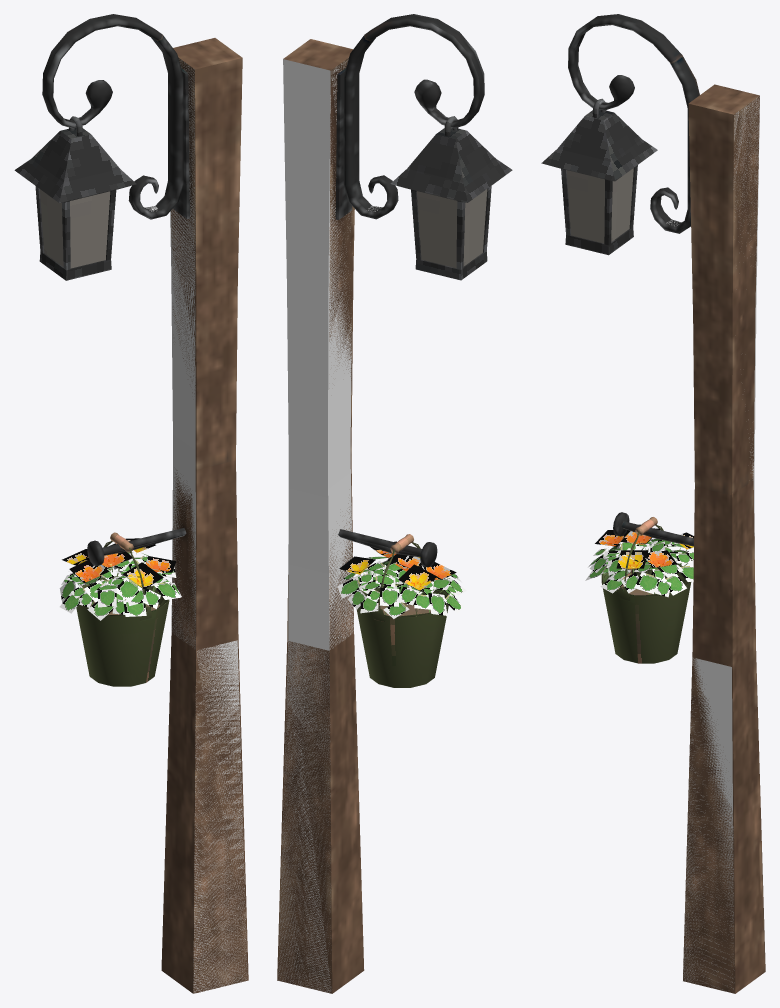
File: objects_un_t01lamp01.gltf
3 views of the same model, side by side, from view 1: azimuth 30°, elevation 25°; view 2: azimuth 150°, elevation 25°; view 3: azimuth 330°, elevation 25° (orthographic). The views are drawn at different scales.
Visible parts, largest first — view 1: nomerge_glass_shape:objects_un_t01lamp01_main1, um_objects_un_t01lamp01_model_lod0Shape:objects_un_t01lamp01 (×3), nomerge_glass_shape:objects_un_t01lamp01_lamp1, um_objects_un_t01lamp01_model_lod1Shape:objects_un_t01lamp01; view 2: um_objects_un_t01lamp01_model_lod0Shape:objects_un_t01lamp01 (×4), nomerge_glass_shape:objects_un_t01lamp01_main1, nomerge_glass_shape:objects_un_t01lamp01_lamp1, um_objects_un_t01lamp01_model_lod1Shape:objects_un_t01lamp01; view 3: nomerge_glass_shape:objects_un_t01lamp01_main1, um_objects_un_t01lamp01_model_lod0Shape:objects_un_t01lamp01 (×3), nomerge_glass_shape:objects_un_t01lamp01_lamp1.
Part boxes in pixels (left/top/right/bottom): nomerge_glass_shape:objects_un_t01lamp01_main1: left=42, top=14, right=248, bottom=993; um_objects_un_t01lamp01_model_lod0Shape:objects_un_t01lamp01 (×3): left=59, top=59, right=246, bottom=993; nomerge_glass_shape:objects_un_t01lamp01_lamp1: left=14, top=116, right=136, bottom=280; um_objects_un_t01lamp01_model_lod1Shape:objects_un_t01lamp01: left=88, top=528, right=186, bottom=565; um_objects_un_t01lamp01_model_lod0Shape:objects_un_t01lamp01 (×4): left=278, top=59, right=466, bottom=992; nomerge_glass_shape:objects_un_t01lamp01_main1: left=277, top=14, right=484, bottom=993; nomerge_glass_shape:objects_un_t01lamp01_lamp1: left=390, top=116, right=512, bottom=280; um_objects_un_t01lamp01_model_lod1Shape:objects_un_t01lamp01: left=338, top=529, right=431, bottom=554; nomerge_glass_shape:objects_un_t01lamp01_main1: left=568, top=14, right=765, bottom=993; um_objects_un_t01lamp01_model_lod0Shape:objects_un_t01lamp01 (×3): left=585, top=97, right=759, bottom=992; nomerge_glass_shape:objects_un_t01lamp01_lamp1: left=541, top=98, right=657, bottom=255.
Size of what is drawn, in the model's own units: 0.6322 by 3.02 by 0.3362.
Materials: 5 (4 with a texture image).
